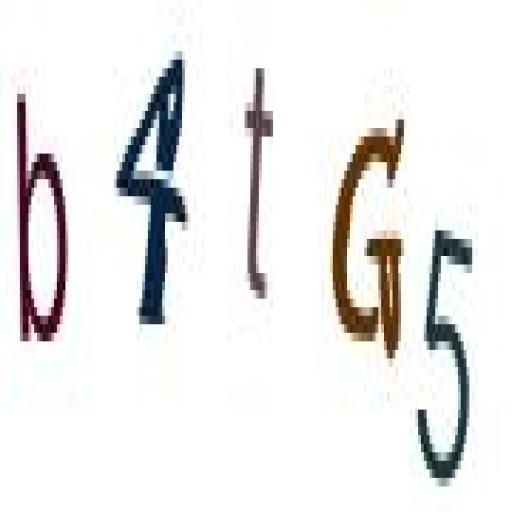4: (107, 44, 192, 350)
5: (414, 202, 485, 500)
G: (332, 95, 415, 382)
b: (12, 76, 74, 366)
t: (236, 50, 280, 333)
